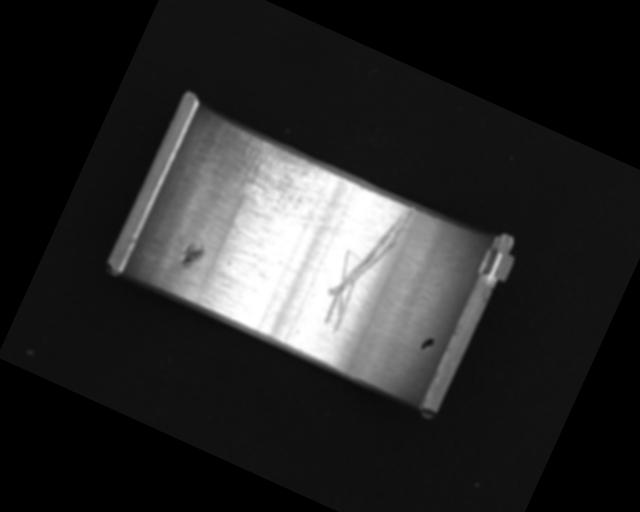blot: (417, 333, 437, 355)
bruise: (176, 238, 207, 273)
nick: (313, 188, 418, 343)
scratch: (217, 131, 360, 244)
